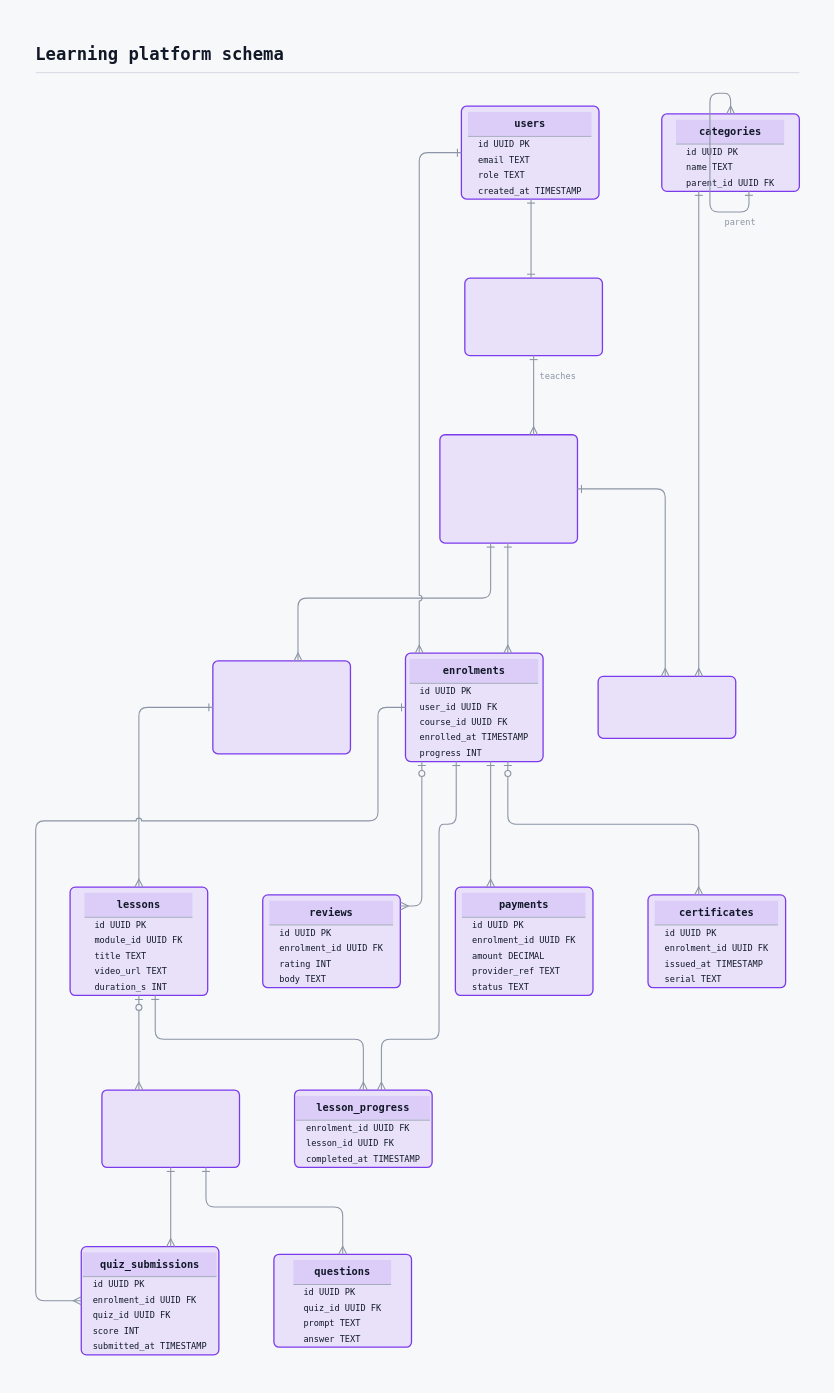
Image size: 834x1393. Some labels were removed from this diagram. Each missing label, with the box of its shape:
course_categories course_id UUID FK category_id UUID FK: (597, 675, 736, 739)
courses id UUID PK instructor_id UUID FK title TEXT price DECIMAL published BOOL: (439, 434, 578, 543)
instructors user_id UUID PK FK bio TEXT payout_account TEXT: (464, 277, 603, 356)
modules id UUID PK course_id UUID FK title TEXT position INT: (212, 660, 351, 754)
quizzes id UUID PK lesson_id UUID FK pass_mark INT: (101, 1089, 240, 1168)
